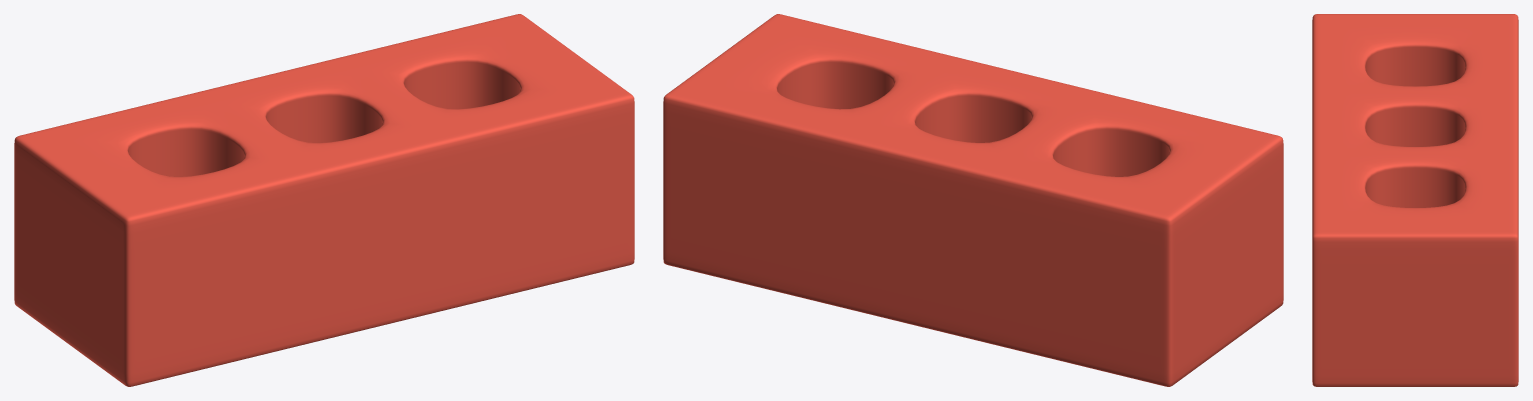
Rendered from kirpich_2.fbx.
3 renders of one model, left to right at view 1: azimuth 30°, elevation 25°; view 2: azimuth 150°, elevation 25°; view 3: azimuth 270°, elevation 25°, orthographic. The views are drawn at different scales.
Visible parts, largest first — view 1: Brick; view 2: Brick; view 3: Brick.
Boxes of the visible parts, box(x1,y1,x2,y2) form: Brick: box(14, 14, 634, 386); Brick: box(663, 14, 1283, 386); Brick: box(1312, 14, 1518, 386).
Bounding box in the file's own units: 200 × 63.75 × 78.21.
